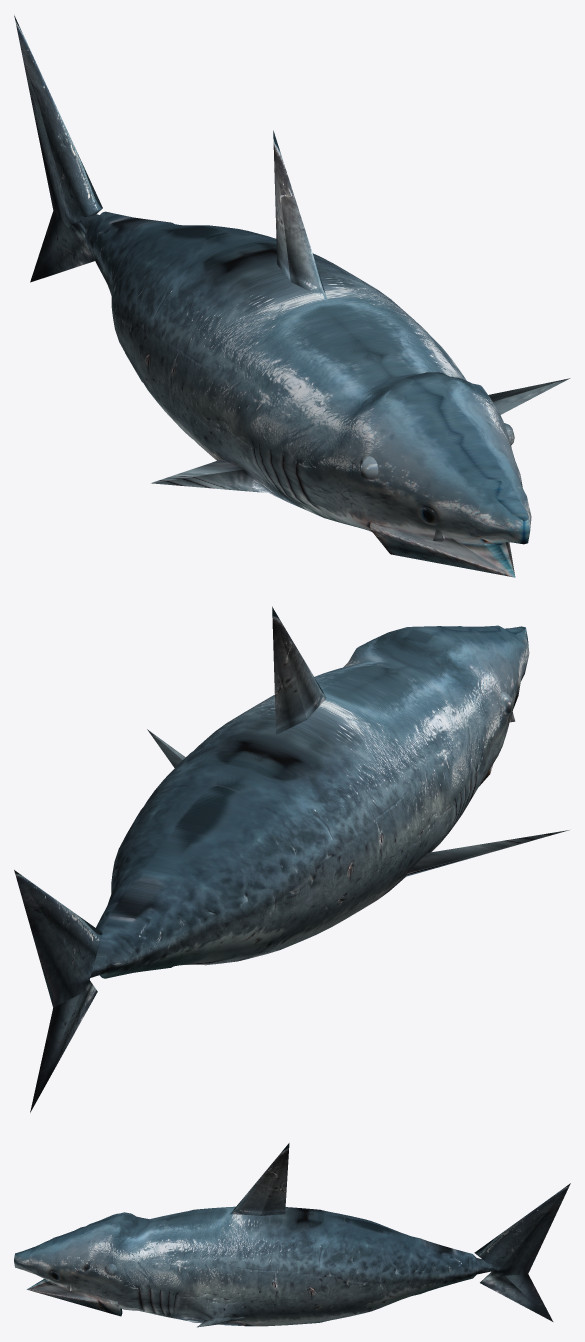
Rendered from Shark_Bruce.glb.
3 renders of one model, top to bottom at view 1: azimuth 30°, elevation 25°; view 2: azimuth 150°, elevation 25°; view 3: azimuth 270°, elevation 25°, orthographic. The views are drawn at different scales.
Visible parts, largest first — view 1: Shark_Pectoral_L.001; view 2: Shark_Pectoral_L.001; view 3: Shark_Pectoral_L.001.
Boxes of the visible parts, box(x1,y1,x2,y2) form: Shark_Pectoral_L.001: box(14, 15, 570, 577); Shark_Pectoral_L.001: box(14, 606, 569, 1112); Shark_Pectoral_L.001: box(14, 1143, 570, 1327).
Bounding box in the file's own units: 2.1 × 1.57 × 4.41.
1 material, 1 textured.
